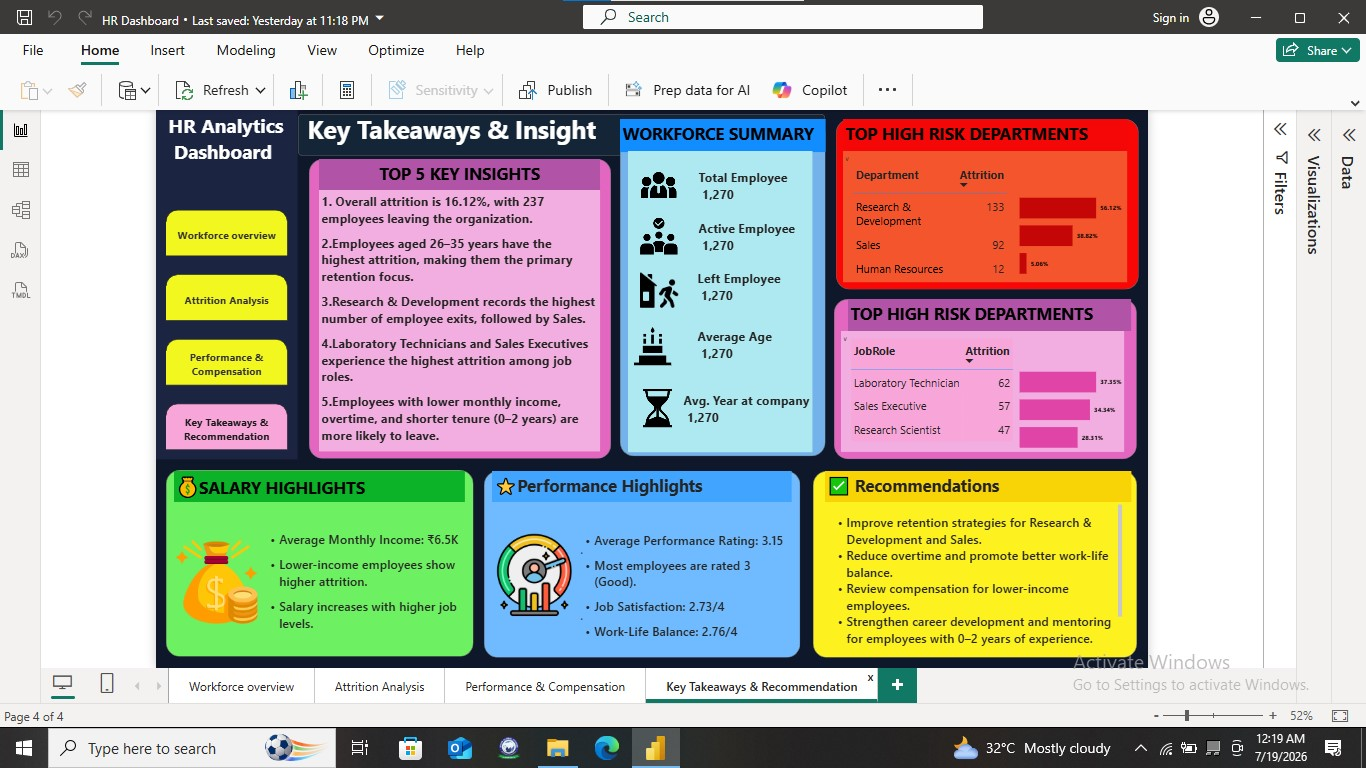

What the dashboard file says about the page in this screenshot:
{"tool":"powerbi","page":{"name":"Key Takeaways & Recommendation","canvas":[1920,1080],"ordinal":3},"visuals":[{"type":"shape","box":[274.3,8.5,1020.5,80.8],"z":0},{"type":"shape","box":[295.5,95.7,584.6,580.4],"z":1000},{"type":"shape","box":[0,0,274.3,676.1],"z":2000},{"type":"textbox","box":[19.1,0,255.1,121.2],"z":3000},{"type":"textbox","box":[274.3,0,622.9,80.8],"z":4000},{"type":"textbox","box":[314.6,95.7,544.3,59.5],"z":5000},{"type":"textbox","box":[314.6,155.2,544.3,506],"z":6000},{"type":"pageNavigator","box":[19.1,193.5,236,467.7],"z":7000},{"type":"shape","box":[897.2,17,397.6,652.7],"z":8000},{"type":"textbox","box":[897.2,17,397.6,63.8],"z":9000},{"type":"textbox","box":[914.2,78.7,357.2,582.5],"z":10000},{"type":"image","box":[937.6,108.4,72.3,74.4],"z":11000},{"type":"image","box":[935.4,206.2,76.5,74.4],"z":12000},{"type":"image","box":[937.6,312.5,74.4,74.4],"z":13000},{"type":"image","box":[924.8,420.9,72.3,74.4],"z":14000},{"type":"image","box":[935.4,540,72.3,74.4],"z":15000},{"type":"textbox","box":[1046,108.4,193.5,112.7],"z":16000},{"type":"textbox","box":[1046,206.2,270,104.2],"z":17000},{"type":"textbox","box":[1043.9,304,225.4,104.2],"z":18000},{"type":"textbox","box":[1043.9,416.7,193.5,104.2],"z":19000},{"type":"textbox","box":[1016.2,540,278.5,104.2],"z":20000},{"type":"shape","box":[1316,18,586,330],"z":21000},{"type":"textbox","box":[1330,18,550,62],"z":22000},{"type":"textbox","box":[1330,80,550,254],"z":23000},{"type":"barChart","fields":{"Category":["HR-Employee-Attrition.Department"],"Y":["HR-Employee-Attrition.Employee Left"]},"box":[1666,156,208,168],"z":24000},{"type":"tableEx","fields":{"Values":["HR-Employee-Attrition.Department","HR-Employee-Attrition.Employee Left"]},"box":[1344,96,322,252],"z":25000},{"type":"shape","box":[1312,366,586,310],"z":26000},{"type":"textbox","box":[1340,366,548,62],"z":27000},{"type":"textbox","box":[1326,428,548,234],"z":28000},{"type":"barChart","fields":{"Y":["HR-Employee-Attrition.Employee Left"],"Category":["HR-Employee-Attrition.JobRole"]},"box":[1666,494,208,168],"z":29000},{"type":"tableEx","fields":{"Values":["HR-Employee-Attrition.JobRole","HR-Employee-Attrition.Employee Left"]},"box":[1340,438,330,224],"z":30000},{"type":"shape","box":[19.1,697.3,595.3,361.4],"z":31000},{"type":"textbox","box":[34,699.4,563.4,59.5],"z":32000},{"type":"shape","box":[635.7,699.4,612.3,361.4],"z":33000},{"type":"textbox","box":[650.6,699.4,580.4,59.5],"z":34000},{"type":"shape","box":[1271.3,699.4,627.2,361.4],"z":35000},{"type":"textbox","box":[1294.7,699.4,593.1,59.5],"z":36000},{"type":"textbox","box":[187.1,782.4,410.3,253],"z":37000},{"type":"textbox","box":[197.1,792.4,410.3,253],"z":38000},{"type":"textbox","box":[1294.7,759,580.4,287],"z":38001},{"type":"textbox","box":[807.9,793,431.6,253],"z":38002},{"type":"image","box":[34,793,163.7,242.4],"z":38003},{"type":"image","box":[650.6,759,163.7,282.8],"z":38004}]}

Visuals, with their boxes on the page's 1920x1080 design canvas (x1, y1, x2, y2). These are canvas units, not pixel positions in the 1366x768 screenshot, which may show the page scaled, cropped or inside an application window:
shape: 274 8 1295 89
shape: 296 96 880 676
shape: 0 0 274 676
textbox: 19 0 274 121
textbox: 274 0 897 81
textbox: 315 96 859 155
textbox: 315 155 859 661
pageNavigator: 19 194 255 661
shape: 897 17 1295 670
textbox: 897 17 1295 81
textbox: 914 79 1271 661
image: 938 108 1010 183
image: 935 206 1012 281
image: 938 312 1012 387
image: 925 421 997 495
image: 935 540 1008 614
textbox: 1046 108 1240 221
textbox: 1046 206 1316 310
textbox: 1044 304 1269 408
textbox: 1044 417 1237 521
textbox: 1016 540 1295 644
shape: 1316 18 1902 348
textbox: 1330 18 1880 80
textbox: 1330 80 1880 334
barChart - HR-Employee-Attrition.Department x HR-Employee-Attrition.Employee Left: 1666 156 1874 324
tableEx - HR-Employee-Attrition.Department x HR-Employee-Attrition.Employee Left: 1344 96 1666 348
shape: 1312 366 1898 676
textbox: 1340 366 1888 428
textbox: 1326 428 1874 662
barChart - HR-Employee-Attrition.Employee Left x HR-Employee-Attrition.JobRole: 1666 494 1874 662
tableEx - HR-Employee-Attrition.JobRole x HR-Employee-Attrition.Employee Left: 1340 438 1670 662
shape: 19 697 614 1059
textbox: 34 699 597 759
shape: 636 699 1248 1061
textbox: 651 699 1231 759
shape: 1271 699 1898 1061
textbox: 1295 699 1888 759
textbox: 187 782 597 1035
textbox: 197 792 607 1045
textbox: 1295 759 1875 1046
textbox: 808 793 1240 1046
image: 34 793 198 1035
image: 651 759 814 1042
